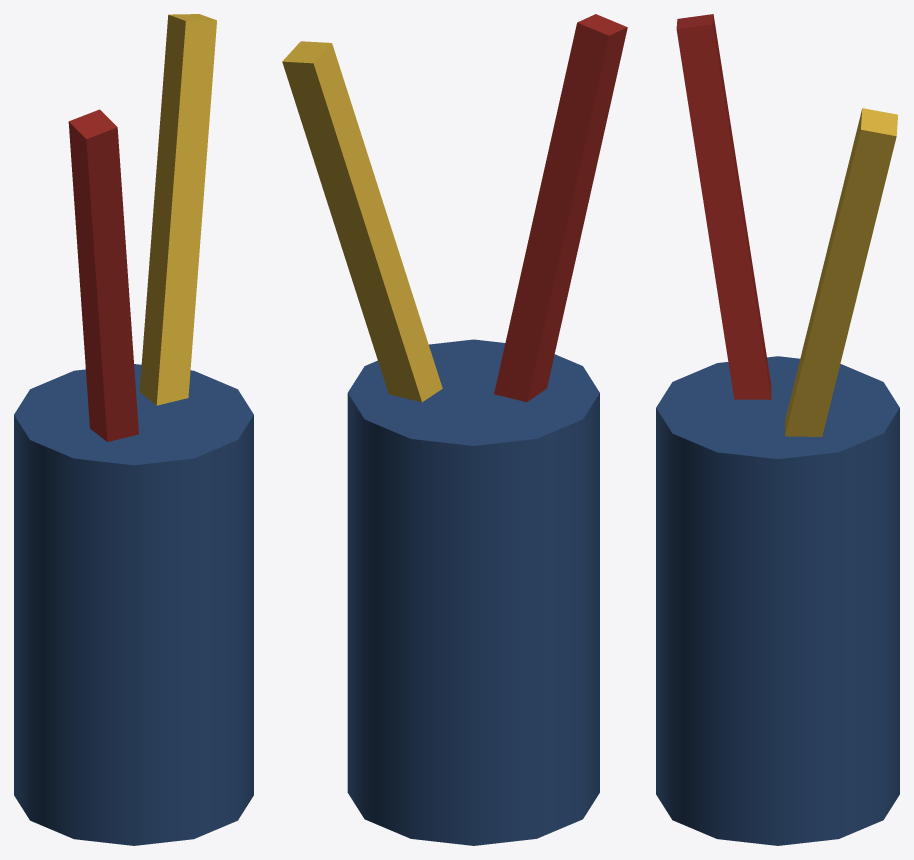
The model's file is two-toothbrushes-in-cup.glb.
The picture shows the model from 3 angles, left to right: view 1: azimuth 30°, elevation 25°; view 2: azimuth 150°, elevation 25°; view 3: azimuth 270°, elevation 25°; orthographic projection. The views are drawn at different scales.
Bounding box in the file's own units: 0.2193 × 0.6672 × 0.2.
